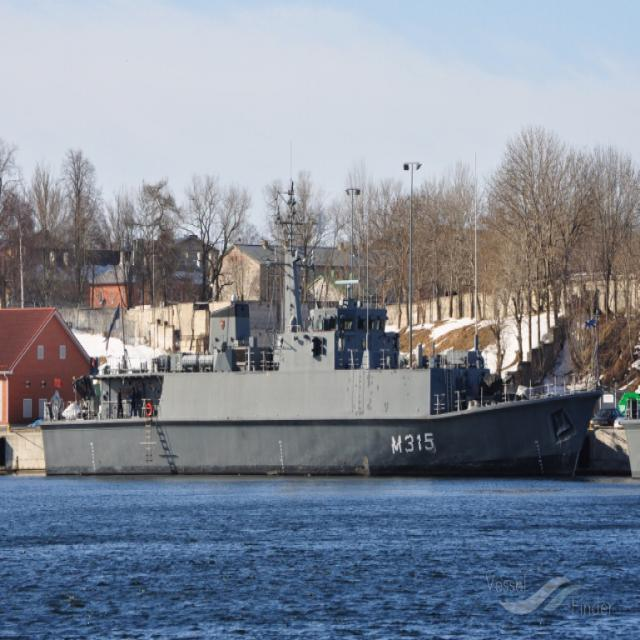OCR: (391, 425, 437, 463)
